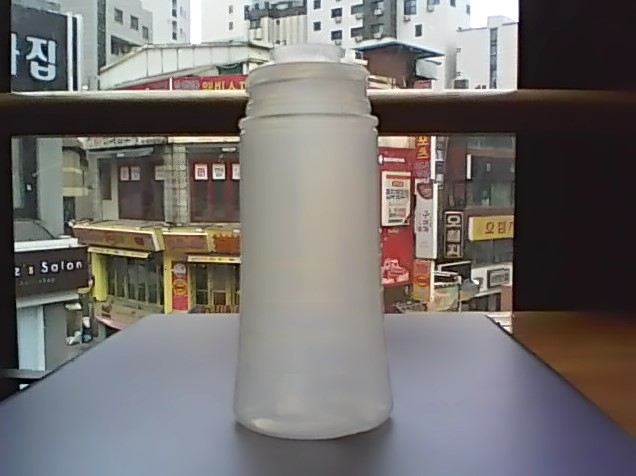Plastic: (229, 41, 396, 444)
